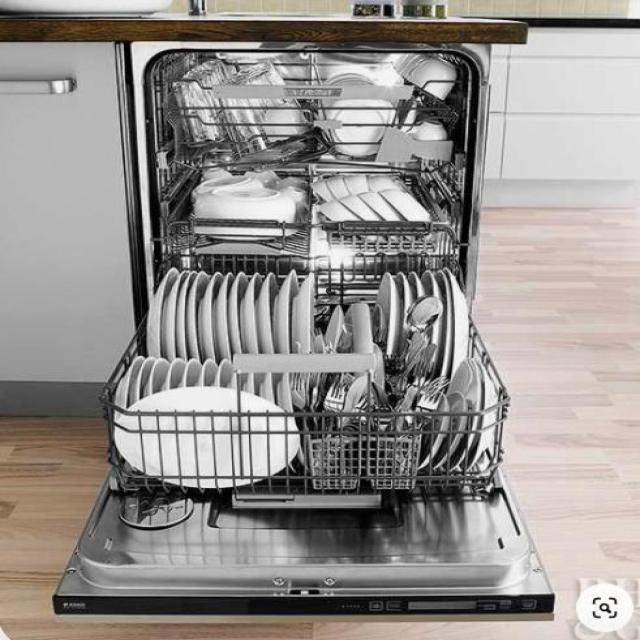dishwasher: (46, 37, 558, 628)
